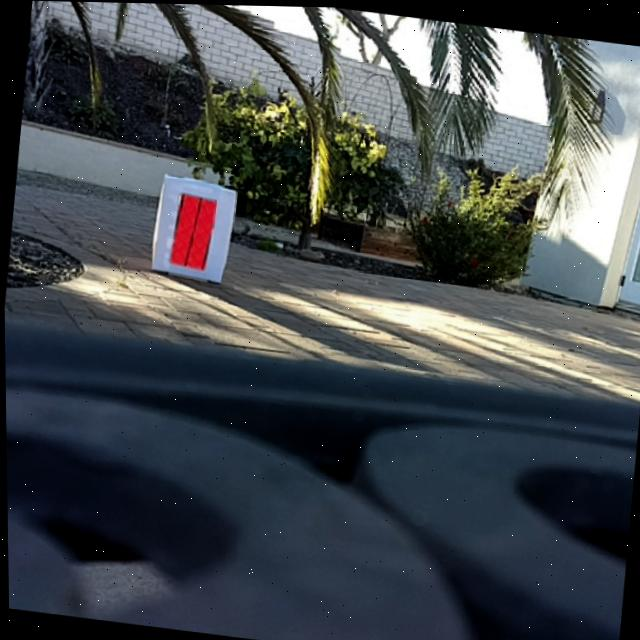led: (168, 191, 216, 272)
